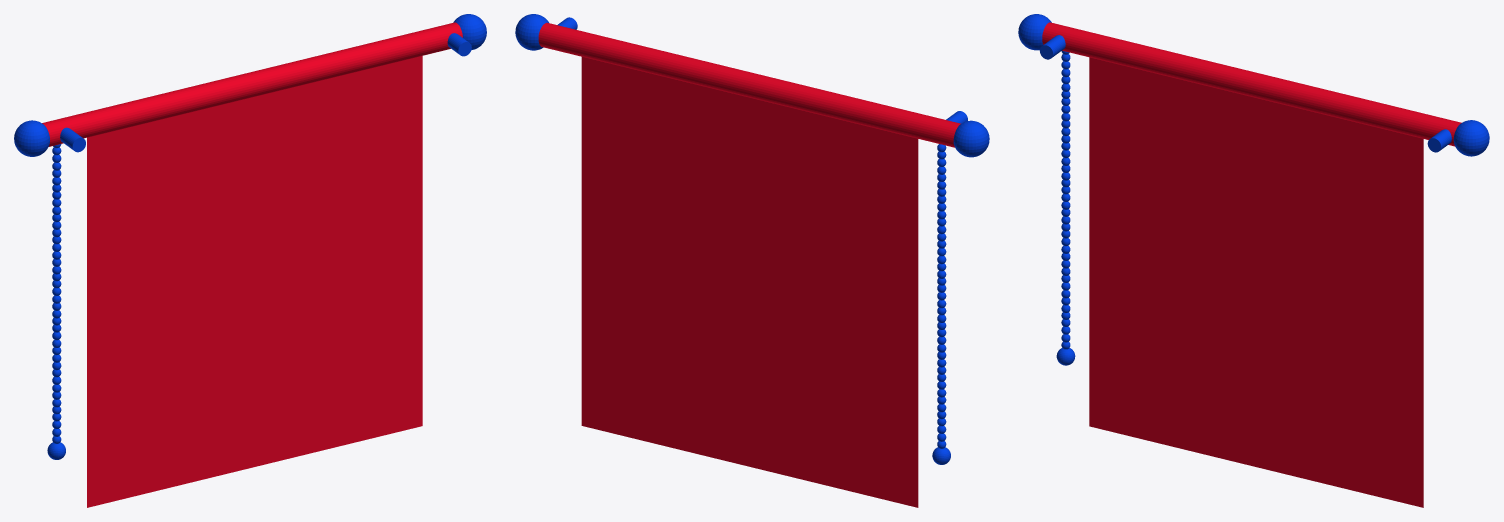
File: Closed_Blinds.fbx
3 renders of one model, left to right at view 1: azimuth 30°, elevation 25°; view 2: azimuth 150°, elevation 25°; view 3: azimuth 330°, elevation 25°, orthographic.
Parts seen in each view (by area): view 1: Closed_Blinds; view 2: Closed_Blinds; view 3: Closed_Blinds.
Part boxes in pixels (x1=…): Closed_Blinds: x1=14, y1=14, x2=486, y2=507; Closed_Blinds: x1=515, y1=14, x2=989, y2=507; Closed_Blinds: x1=1018, y1=14, x2=1489, y2=507.
Size of the model in its own units: 841 by 683 by 86.18.
